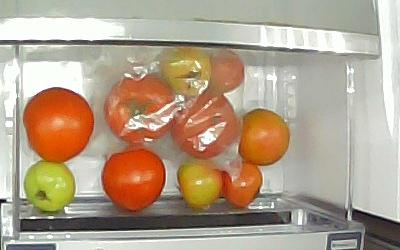tomato: (24, 87, 94, 162), (103, 146, 166, 213), (237, 108, 290, 169), (23, 160, 75, 212), (178, 159, 222, 210), (223, 159, 264, 210)
tomato_vinyl: (103, 73, 175, 146), (171, 91, 240, 160), (159, 48, 211, 98), (207, 50, 245, 95)
